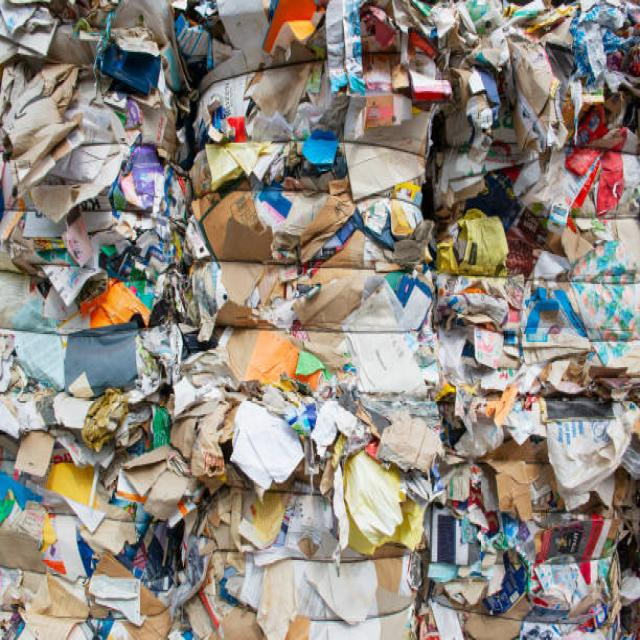cardboard: (25, 11, 619, 579)
